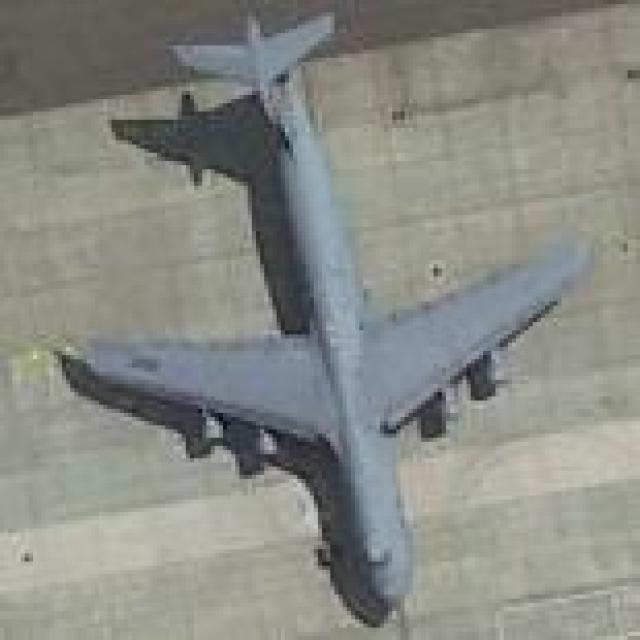C-5_TopDown: (46, 4, 594, 628)
